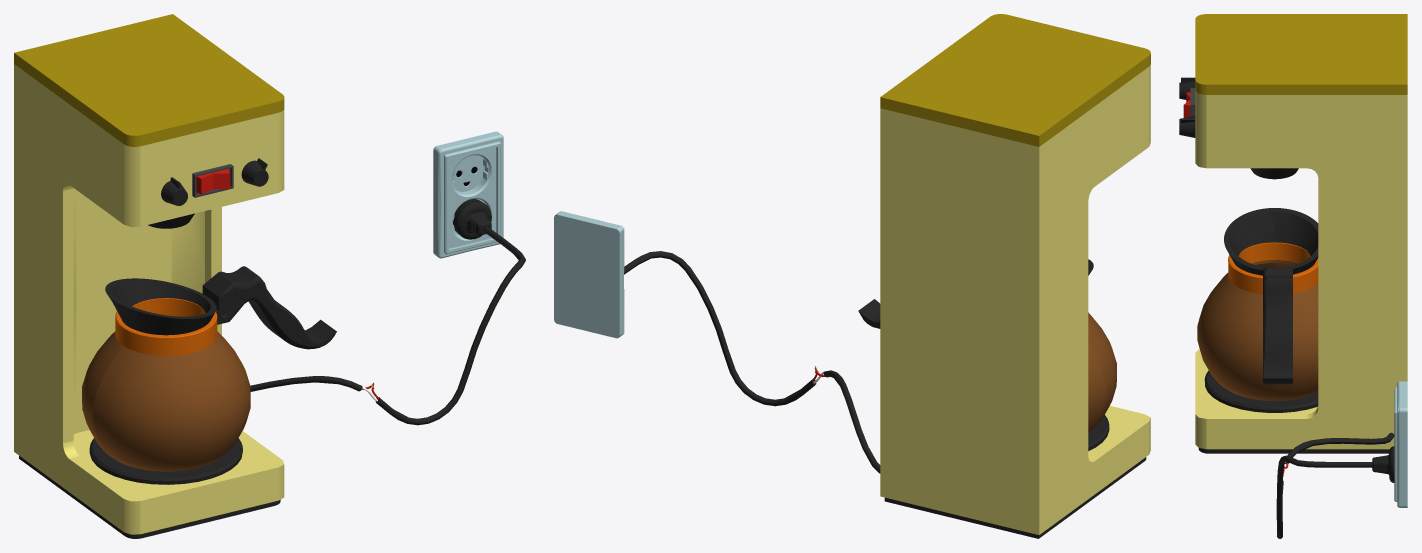
Rendered from coffee_POT_finalized.FBX.
3 renders of one model, left to right at view 1: azimuth 30°, elevation 25°; view 2: azimuth 150°, elevation 25°; view 3: azimuth 270°, elevation 25°, orthographic. The views are drawn at different scales.
Visible parts, largest first — view 1: Obj_078, Obj_084, Obj_072, Obj_000002, Obj_077, Obj_074, Obj_075, Obj_081, Obj_064, Obj_065, Obj_071, Obj_058 (+1 smaller); view 2: Obj_078, Obj_084, Obj_000002, Obj_072, Obj_064, Obj_071, Obj_058; view 3: Obj_078, Obj_084, Obj_072, Obj_074, Obj_077, Obj_075, Obj_000002, Obj_081, Obj_064, Obj_071, Obj_058, Obj_065 (+2 smaller).
Boxes of the visible parts, x1=… form: Obj_078: x1=14, y1=64, x2=284, y2=534; Obj_084: x1=14, y1=14, x2=284, y2=146; Obj_072: x1=82, y1=331, x2=250, y2=471; Obj_000002: x1=433, y1=131, x2=503, y2=258; Obj_077: x1=202, y1=266, x2=336, y2=349; Obj_074: x1=105, y1=278, x2=216, y2=335; Obj_075: x1=115, y1=298, x2=217, y2=355; Obj_081: x1=89, y1=438, x2=242, y2=484; Obj_064: x1=375, y1=226, x2=525, y2=425; Obj_065: x1=453, y1=199, x2=491, y2=239; Obj_071: x1=19, y1=455, x2=280, y2=538; Obj_058: x1=250, y1=376, x2=362, y2=391; Obj_078: x1=880, y1=65, x2=1150, y2=534; Obj_084: x1=880, y1=14, x2=1150, y2=146; Obj_000002: x1=554, y1=211, x2=624, y2=338; Obj_072: x1=1088, y1=312, x2=1116, y2=432; Obj_064: x1=624, y1=251, x2=816, y2=406; Obj_071: x1=884, y1=457, x2=1146, y2=538; Obj_058: x1=823, y1=370, x2=880, y2=473; Obj_078: x1=1195, y1=90, x2=1407, y2=449; Obj_084: x1=1195, y1=14, x2=1407, y2=94; Obj_072: x1=1197, y1=260, x2=1318, y2=400; Obj_074: x1=1224, y1=208, x2=1318, y2=275; Obj_077: x1=1263, y1=267, x2=1292, y2=384; Obj_075: x1=1228, y1=242, x2=1318, y2=294; Obj_000002: x1=1394, y1=381, x2=1407, y2=507; Obj_081: x1=1204, y1=370, x2=1318, y2=412; Obj_064: x1=1276, y1=455, x2=1372, y2=538; Obj_071: x1=1198, y1=448, x2=1389, y2=453; Obj_058: x1=1285, y1=432, x2=1394, y2=463; Obj_065: x1=1372, y1=446, x2=1394, y2=482.
Bounding box in the file's own units: 11.44 × 9.14 × 5.11.
